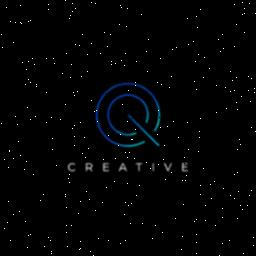a: (118, 162, 130, 176)
c: (66, 158, 80, 176)
e: (102, 159, 112, 175), (179, 162, 191, 174)
i: (148, 162, 160, 174)
r: (84, 158, 94, 174)
t: (134, 162, 146, 174)
v: (164, 162, 176, 174)
